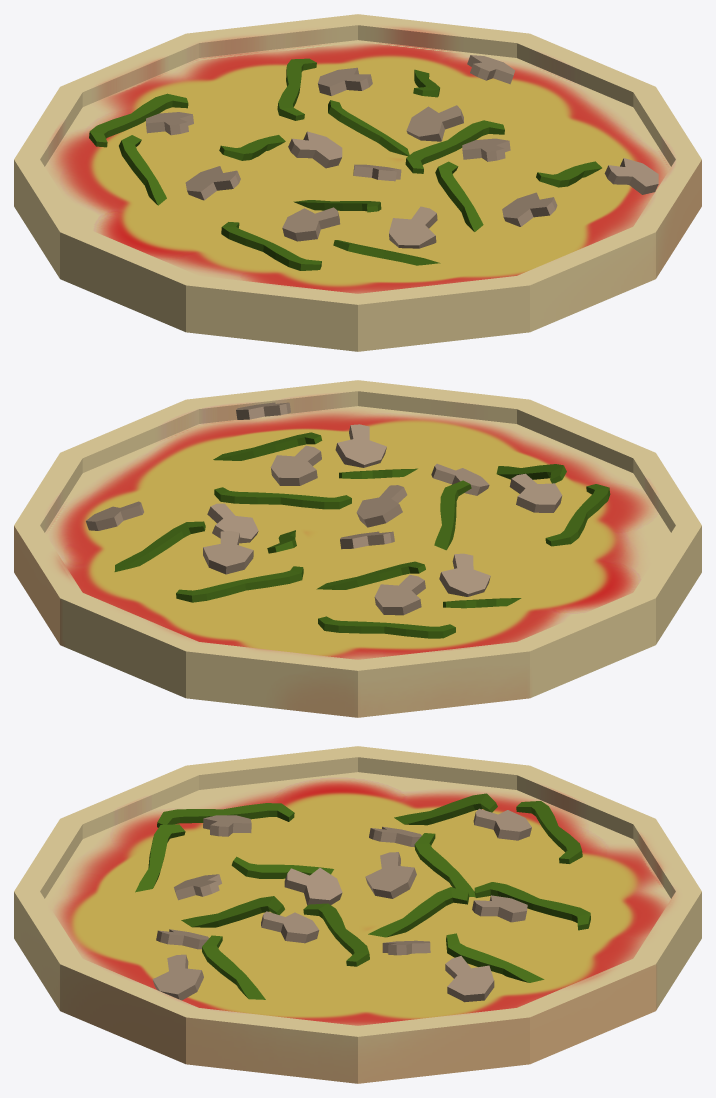
Rendered from RawVeggie.fbx.
3 views of the same model, one above another, from view 1: azimuth 30°, elevation 25°; view 2: azimuth 150°, elevation 25°; view 3: azimuth 270°, elevation 25° (orthographic).
Parts seen in each view (by area): view 1: PizzaBase, VeggiesCut.004, VeggiesCut.002, VeggiesCut.001, VeggiesCut.003; view 2: PizzaBase, VeggiesCut.004, VeggiesCut.002, VeggiesCut.001, VeggiesCut.003; view 3: PizzaBase, VeggiesCut.003, VeggiesCut.004, VeggiesCut.002, VeggiesCut.001.
Boxes of the visible parts, x1,y1,x2,y2 form: PizzaBase: (14,14,701,351); VeggiesCut.004: (405,120,658,231); VeggiesCut.002: (89,93,342,205); VeggiesCut.001: (221,164,440,270); VeggiesCut.003: (277,55,514,156); PizzaBase: (14,380,701,717); VeggiesCut.004: (213,402,417,509); VeggiesCut.002: (316,531,521,638); VeggiesCut.001: (356,463,610,550); VeggiesCut.003: (86,501,303,602); PizzaBase: (14,746,701,1083); VeggiesCut.003: (368,882,590,1002); VeggiesCut.004: (152,896,369,1000); VeggiesCut.002: (365,793,582,898); VeggiesCut.001: (135,803,342,905).
Size of the model in its own units: 200 by 21.9 by 200.
Materials: 3 (1 with a texture image).
